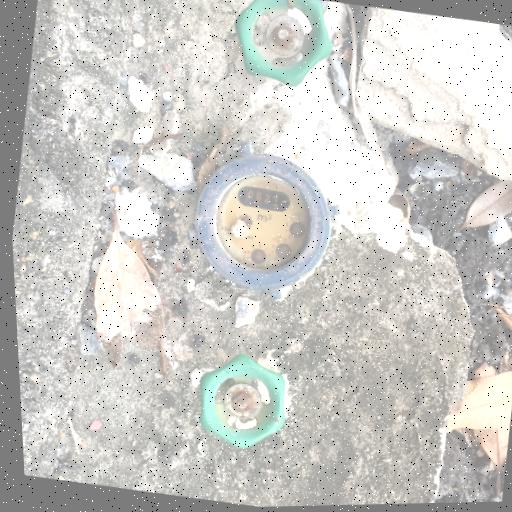0: (245, 188, 255, 202)
1: (269, 191, 282, 211)
2: (261, 190, 272, 205)
6: (253, 189, 265, 204)
border_water_meter_number: (235, 182, 292, 215)
